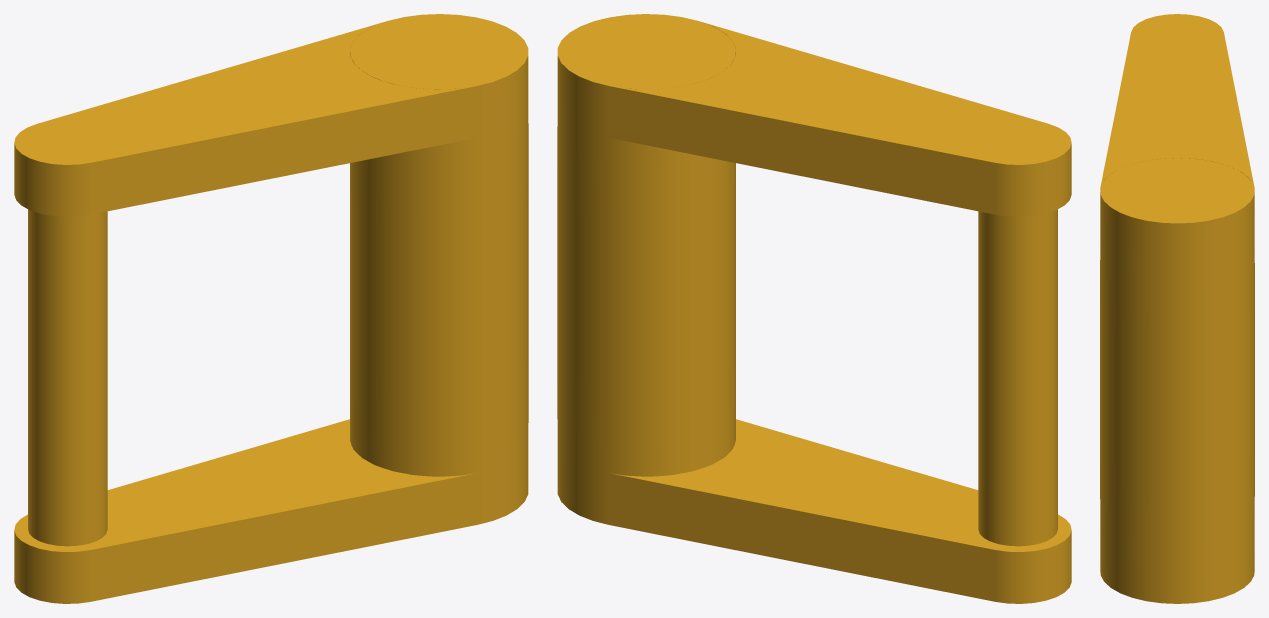
File: arm.obj
3 views of the same model, side by side, from view 1: azimuth 30°, elevation 25°; view 2: azimuth 150°, elevation 25°; view 3: azimuth 270°, elevation 25° (orthographic). The views are drawn at different scales.
Visible parts, largest first — view 1: Body1; view 2: Body1; view 3: Body1.
Boxes of the visible parts, box(x1,y1,x2,y2) form: Body1: box(14, 14, 528, 603); Body1: box(557, 14, 1071, 603); Body1: box(1100, 14, 1254, 603).
Bounding box in the file's own units: 32 × 27.1 × 10.
